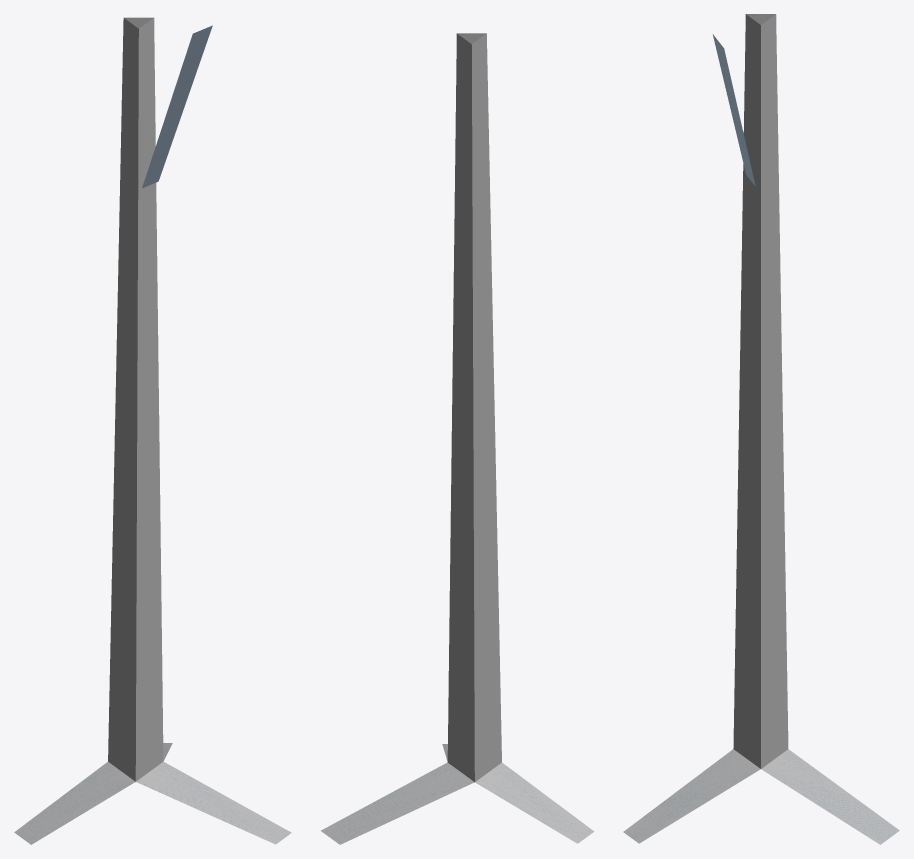
File: Hutständer [Blau]_2053.glb
3 renders of one model, left to right at view 1: azimuth 30°, elevation 25°; view 2: azimuth 150°, elevation 25°; view 3: azimuth 270°, elevation 25°, orthographic. The views are drawn at different scales.
Parts seen in each view (by area): view 1: pCylinderShape38, pPlaneShape34, pPlaneShape32, pPlaneShape37, pPlaneShape38, pPlaneShape40; view 2: pCylinderShape38, pPlaneShape33, pPlaneShape32, pPlaneShape39, pPlaneShape38; view 3: pCylinderShape38, pPlaneShape33, pPlaneShape34, pPlaneShape39, pPlaneShape37, pPlaneShape40.
Part boxes in pixels (<box>): pCylinderShape38: <box>108,17,163,781</box>; pPlaneShape34: <box>136,761,291,844</box>; pPlaneShape32: <box>14,762,135,844</box>; pPlaneShape37: <box>142,25,212,188</box>; pPlaneShape38: <box>16,762,133,844</box>; pPlaneShape40: <box>137,763,290,842</box>; pCylinderShape38: <box>447,33,501,782</box>; pPlaneShape33: <box>321,762,474,844</box>; pPlaneShape32: <box>475,762,594,843</box>; pPlaneShape39: <box>325,763,473,843</box>; pPlaneShape38: <box>475,763,593,841</box>; pCylinderShape38: <box>733,14,788,768</box>; pPlaneShape33: <box>761,749,899,844</box>; pPlaneShape34: <box>623,749,760,843</box>; pPlaneShape39: <box>762,749,898,841</box>; pPlaneShape37: <box>712,34,755,186</box>; pPlaneShape40: <box>627,750,757,842</box>.
Bounding box in the file's own units: 0.0748 × 0.268 × 0.086.
